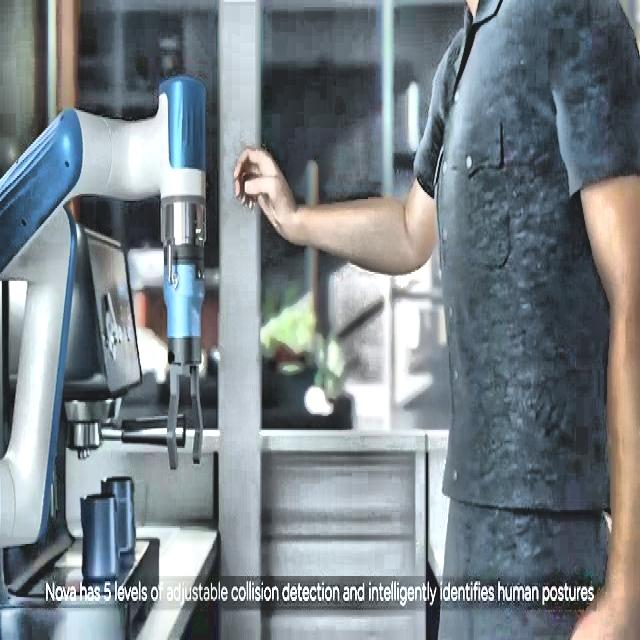robot: (0, 73, 208, 597)
